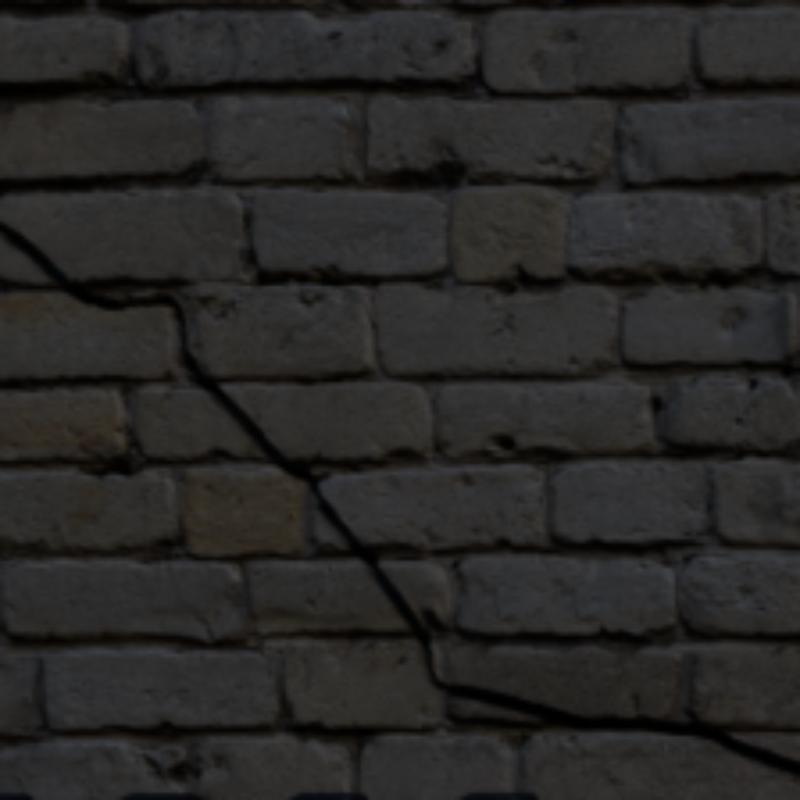pothole: (0, 221, 796, 775)
